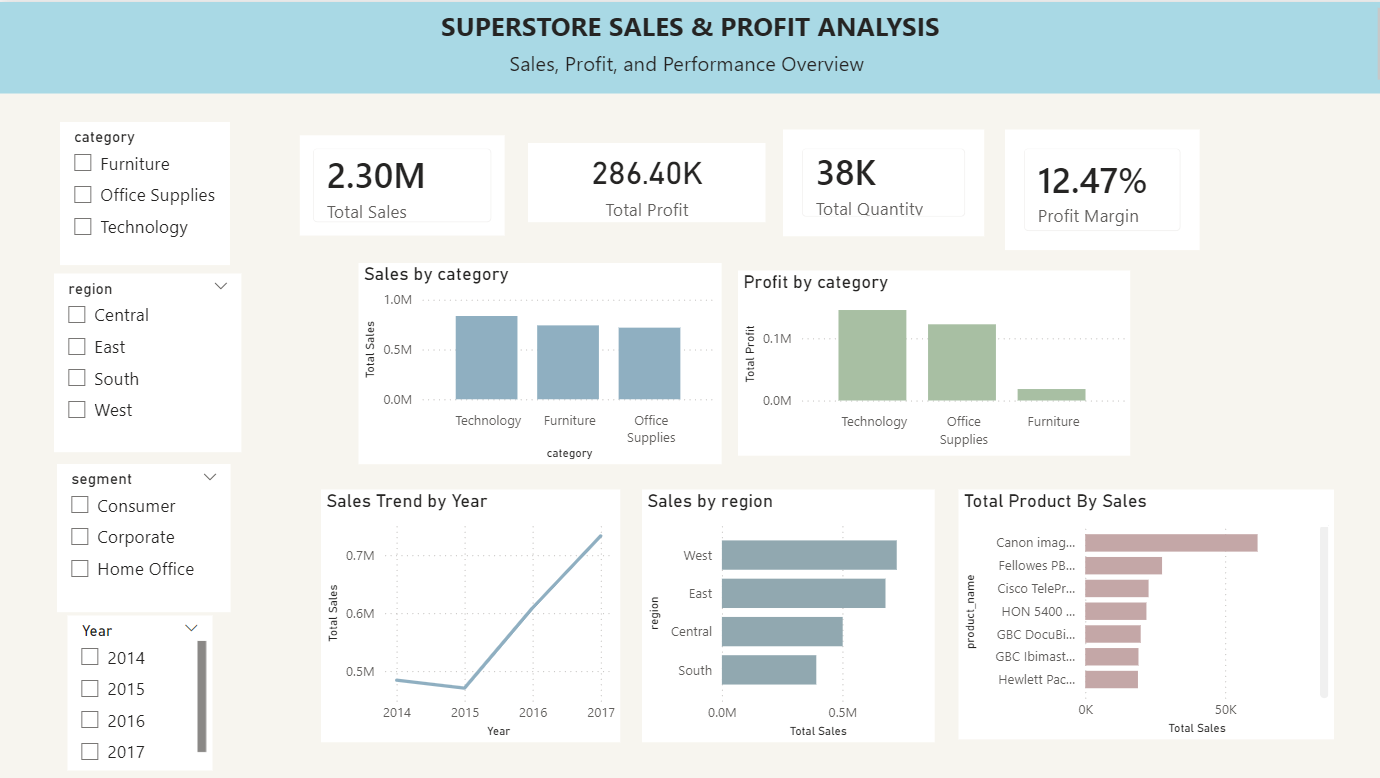

The page's visual inventory and layout, read from the dashboard file:
{"tool":"powerbi","page":{"name":"Page 1","canvas":[1280,720],"ordinal":0},"visuals":[{"type":"cardVisual","fields":{"Data":["public superstore_clean.Total Sales"]},"box":[273.2,116.8,198.9,102.6],"z":0},{"type":"cardVisual","fields":{"Data":["public superstore_clean.Total Quantity"]},"box":[721.6,116.8,184.7,97.9],"z":1000},{"type":"cardVisual","fields":{"Data":["public superstore_clean.Profit Margin"]},"box":[925.3,116.8,178.4,110.5],"z":2000},{"type":"card","fields":{"Values":["public superstore_clean.Total Profit"]},"box":[487.9,129.5,217.9,72.6],"z":3000},{"type":"columnChart","title":"Sales by category","fields":{"Category":["public superstore_clean.category"],"Y":["public superstore_clean.Total Sales"]},"box":[331.6,240,333.2,184.7],"z":4000},{"type":"columnChart","title":"Profit by category","fields":{"Category":["public superstore_clean.category"],"Y":["public superstore_clean.Total Profit"]},"box":[680,246,360,170],"z":5000},{"type":"clusteredBarChart","title":"Sales by region","fields":{"Category":["public superstore_clean.region"],"Y":["public superstore_clean.Total Sales"]},"box":[591.5,447.4,269,231.9],"z":6000},{"type":"lineChart","title":"Sales Trend by Year","fields":{"Category":["public superstore_clean.order_date.Variation.Date Hierarchy.Year"],"Y":["public superstore_clean.Total Sales"]},"box":[297.8,447.4,274.5,231.9],"z":7000},{"type":"slicer","fields":{"Values":["public superstore_clean.category"]},"box":[58.4,110.5,156.3,131.1],"z":8000},{"type":"slicer","fields":{"Values":["public superstore_clean.region"]},"box":[52.1,249.5,172.1,164.2],"z":9000},{"type":"slicer","fields":{"Values":["public superstore_clean.segment"]},"box":[55.3,424.7,159.5,135.8],"z":10000},{"type":"slicer","fields":{"Values":["public superstore_clean.order_date.Variation.Date Hierarchy.Year"]},"box":[64.7,563.7,132.6,142.1],"z":11000},{"type":"clusteredBarChart","title":"Total Product By Sales","fields":{"Category":["public superstore_clean.product_name"],"Y":["public superstore_clean.Total Sales"]},"box":[882.4,447.4,344.5,229.2],"z":12000},{"type":"textbox","box":[0,0,1280.5,83.7],"z":13000}]}

Visuals, with their boxes in screenshot pixels (x1, y1, x2, y2), scaled from the page's 1280x720 canvas onto the 1380x778 screenshot:
cardVisual - public superstore_clean.Total Sales: box=[295, 126, 509, 237]
cardVisual - public superstore_clean.Total Quantity: box=[778, 126, 977, 232]
cardVisual - public superstore_clean.Profit Margin: box=[998, 126, 1190, 246]
card - public superstore_clean.Total Profit: box=[526, 140, 761, 218]
"Sales by category" columnChart: box=[358, 259, 717, 459]
"Profit by category" columnChart: box=[733, 266, 1121, 450]
"Sales by region" clusteredBarChart: box=[638, 483, 928, 734]
"Sales Trend by Year" lineChart: box=[321, 483, 617, 734]
slicer - public superstore_clean.category: box=[63, 119, 231, 261]
slicer - public superstore_clean.region: box=[56, 270, 242, 447]
slicer - public superstore_clean.segment: box=[60, 459, 232, 606]
slicer - public superstore_clean.order_date.Variation.Date Hierarchy.Year: box=[70, 609, 213, 763]
"Total Product By Sales" clusteredBarChart: box=[951, 483, 1323, 731]
textbox: box=[0, 0, 1379, 90]
